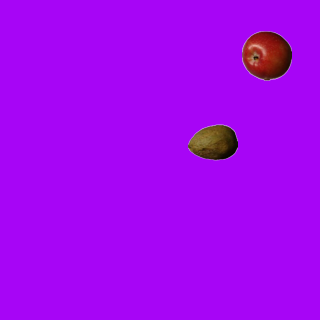Apple Braeburn: (241, 30, 291, 80)
Papaya: (187, 117, 237, 167)
